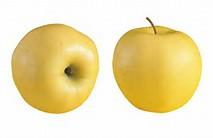apple: (10, 24, 104, 116), (118, 15, 200, 112)
